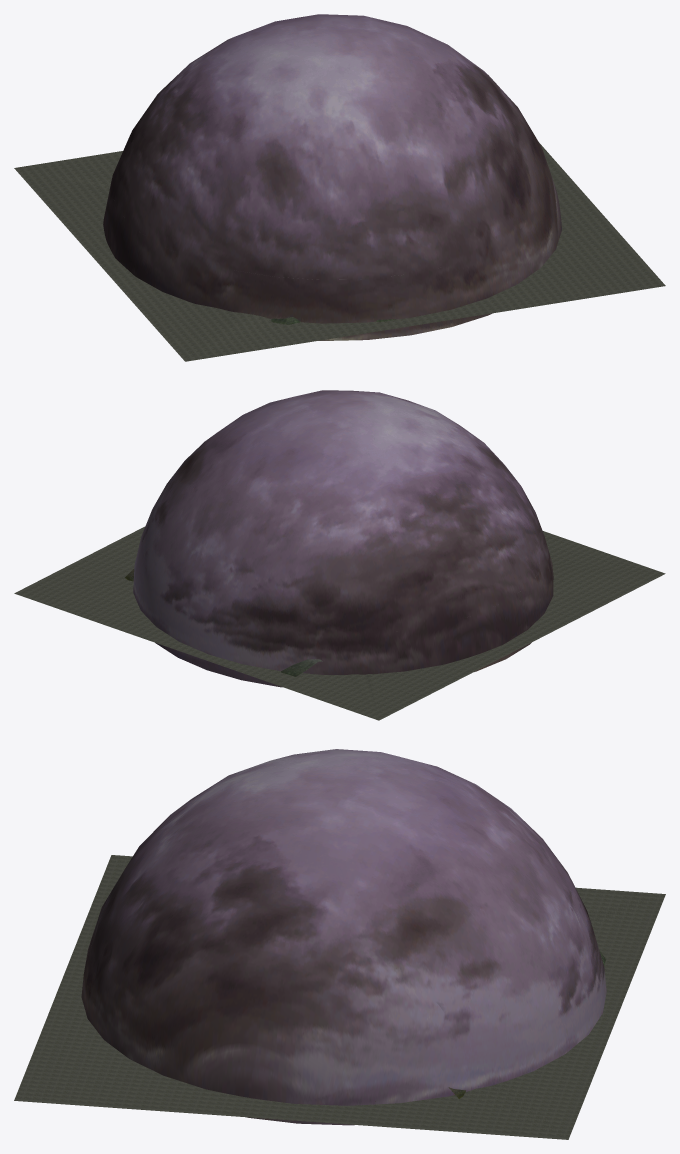
The model's file is Volcano.glb.
3 views of the same model, one above another, from view 1: azimuth 30°, elevation 25°; view 2: azimuth 150°, elevation 25°; view 3: azimuth 270°, elevation 25° (orthographic). The views are drawn at different scales.
Visible parts, largest first — view 1: "Sphere01", "ground"; view 2: "Sphere01", "ground"; view 3: "Sphere01", "ground".
Part boxes in pixels (bbox=[...]): "Sphere01": bbox=[103, 14, 561, 340]; "ground": bbox=[14, 143, 665, 361]; "Sphere01": bbox=[133, 390, 553, 687]; "ground": bbox=[14, 526, 665, 720]; "Sphere01": bbox=[81, 749, 606, 1125]; "ground": bbox=[14, 855, 665, 1139].
Bounding box in the file's own units: 751 × 295 × 726.
38 materials, 38 textured.
